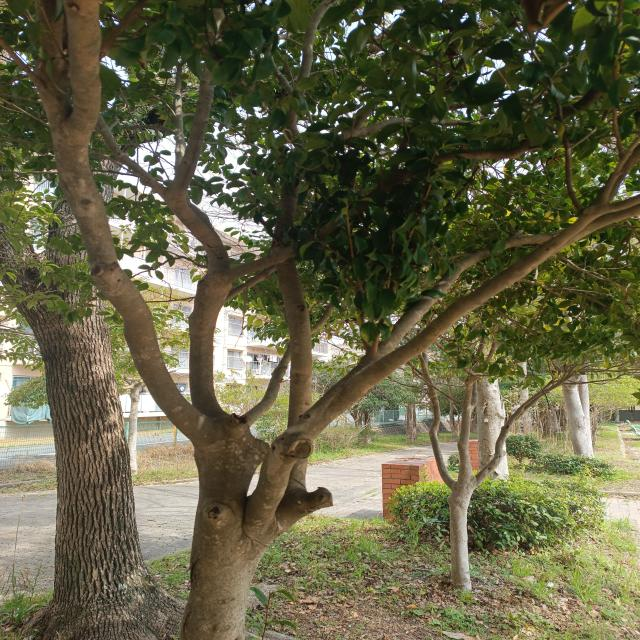Branch: (246, 201, 611, 520), (52, 0, 206, 445), (161, 186, 237, 415), (274, 258, 334, 537)
Twig: (329, 231, 560, 393), (235, 168, 413, 277), (243, 303, 336, 424), (172, 58, 214, 192), (97, 114, 162, 192), (1, 35, 45, 98), (101, 0, 147, 58)
